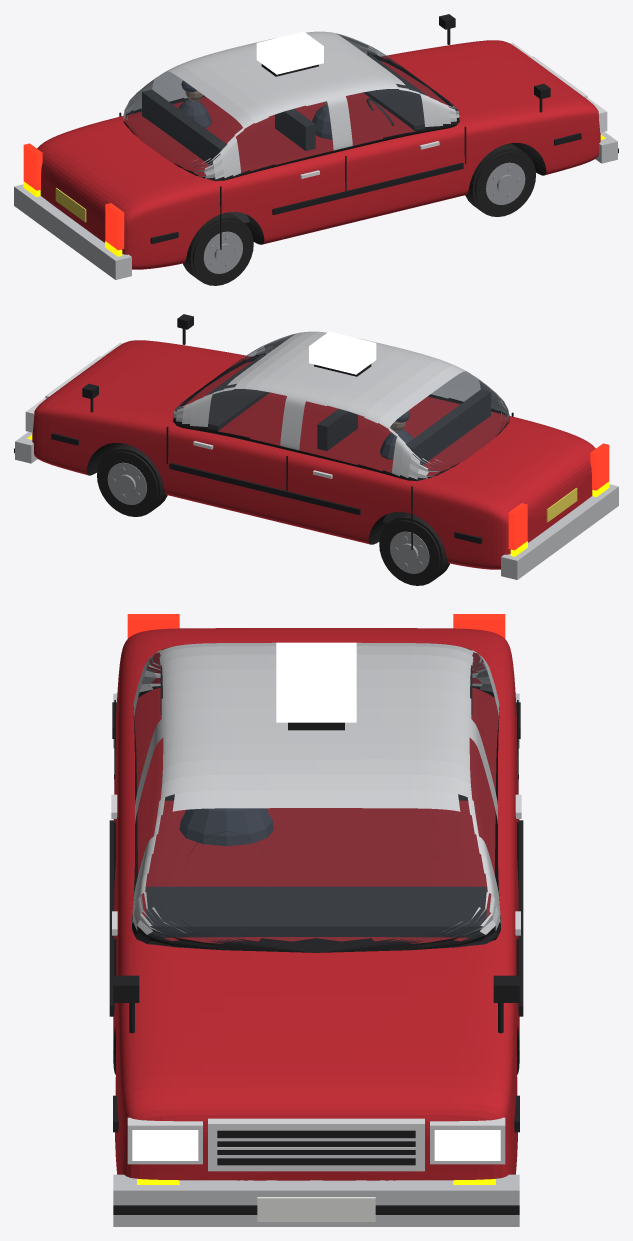
Rendered from taxi.glb.
3 renders of one model, top to bottom at view 1: azimuth 30°, elevation 25°; view 2: azimuth 150°, elevation 25°; view 3: azimuth 270°, elevation 25°, orthographic. The views are drawn at different scales.
Parts seen in each view (by area): view 1: taxi__body, taxi__cab, taxi__seat, taxi__tyre, taxi__silver, taxi__trim, taxi__steel, taxi__taxisign, taxi__tail, taxi__cloth, taxi__chrome.001, taxi__plate_r; view 2: taxi__body, taxi__cab, taxi__seat, taxi__tyre, taxi__silver, taxi__trim, taxi__steel, taxi__taxisign, taxi__tail, taxi__chrome.001, taxi__cloth, taxi__plate_r; view 3: taxi__body, taxi__cab, taxi__seat, taxi__silver, taxi__chrome.001, taxi__trim.001, taxi__taxisign, taxi__trim, taxi__head, taxi__cloth, taxi__plate_f, taxi__tail.
Part boxes in pixels (x1=…): taxi__body: x1=37, y1=40, x2=600, y2=269; taxi__cab: x1=123, y1=31, x2=459, y2=180; taxi__seat: x1=142, y1=54, x2=426, y2=222; taxi__tyre: x1=183, y1=143, x2=535, y2=285; taxi__silver: x1=14, y1=131, x2=617, y2=279; taxi__trim: x1=119, y1=14, x2=581, y2=249; taxi__steel: x1=203, y1=162, x2=525, y2=273; taxi__taxisign: x1=256, y1=31, x2=323, y2=74; taxi__tail: x1=23, y1=143, x2=124, y2=250; taxi__cloth: x1=178, y1=80, x2=332, y2=139; taxi__chrome.001: x1=510, y1=42, x2=607, y2=132; taxi__plate_r: x1=55, y1=188, x2=86, y2=222; taxi__body: x1=32, y1=340, x2=595, y2=569; taxi__cab: x1=173, y1=331, x2=509, y2=480; taxi__seat: x1=206, y1=354, x2=490, y2=522; taxi__tyre: x1=97, y1=443, x2=449, y2=585; taxi__silver: x1=15, y1=431, x2=618, y2=579; taxi__trim: x1=51, y1=314, x2=513, y2=549; taxi__steel: x1=107, y1=462, x2=429, y2=573; taxi__taxisign: x1=309, y1=331, x2=376, y2=374; taxi__tail: x1=508, y1=443, x2=609, y2=550; taxi__chrome.001: x1=25, y1=342, x2=122, y2=432; taxi__cloth: x1=380, y1=411, x2=412, y2=459; taxi__plate_r: x1=546, y1=488, x2=577, y2=522; taxi__body: x1=113, y1=628, x2=519, y2=1180; taxi__cab: x1=132, y1=642, x2=500, y2=952; taxi__seat: x1=146, y1=665, x2=486, y2=937; taxi__silver: x1=113, y1=693, x2=519, y2=1226; taxi__chrome.001: x1=127, y1=1117, x2=505, y2=1171; taxi__trim.001: x1=113, y1=1130, x2=519, y2=1214; taxi__taxisign: x1=276, y1=642, x2=356, y2=722; taxi__trim: x1=109, y1=700, x2=523, y2=1132; taxi__head: x1=132, y1=1130, x2=500, y2=1160; taxi__cloth: x1=179, y1=808, x2=273, y2=846; taxi__plate_f: x1=257, y1=1197, x2=375, y2=1221; taxi__tail: x1=127, y1=614, x2=505, y2=638.
Bounding box in the file's own units: 4.93 × 1.66 × 1.75.
